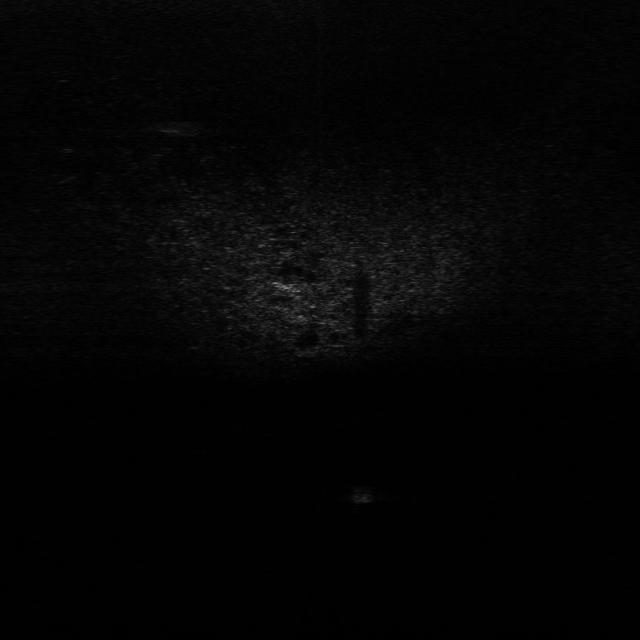cylinder: (347, 482, 374, 506)
